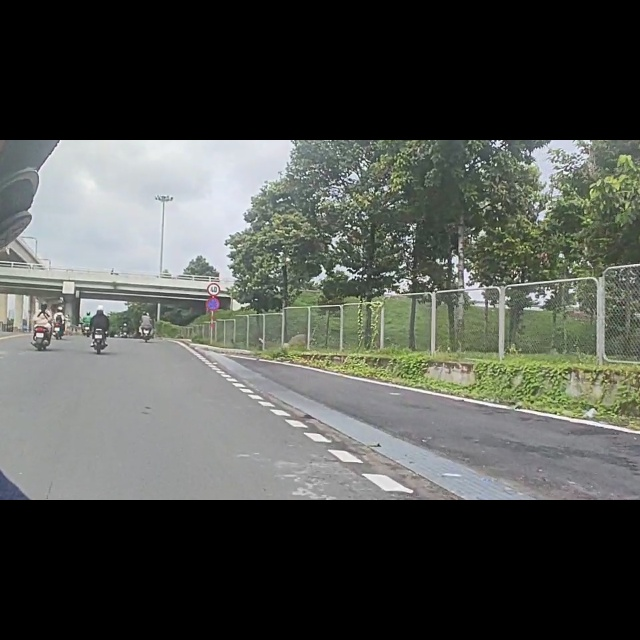bien_cam: (206, 254, 221, 277), (207, 280, 220, 303)
